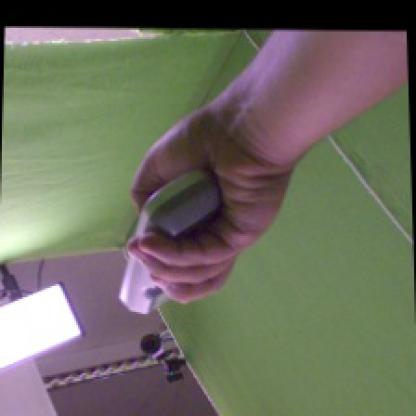Hand: (124, 111, 290, 301)
